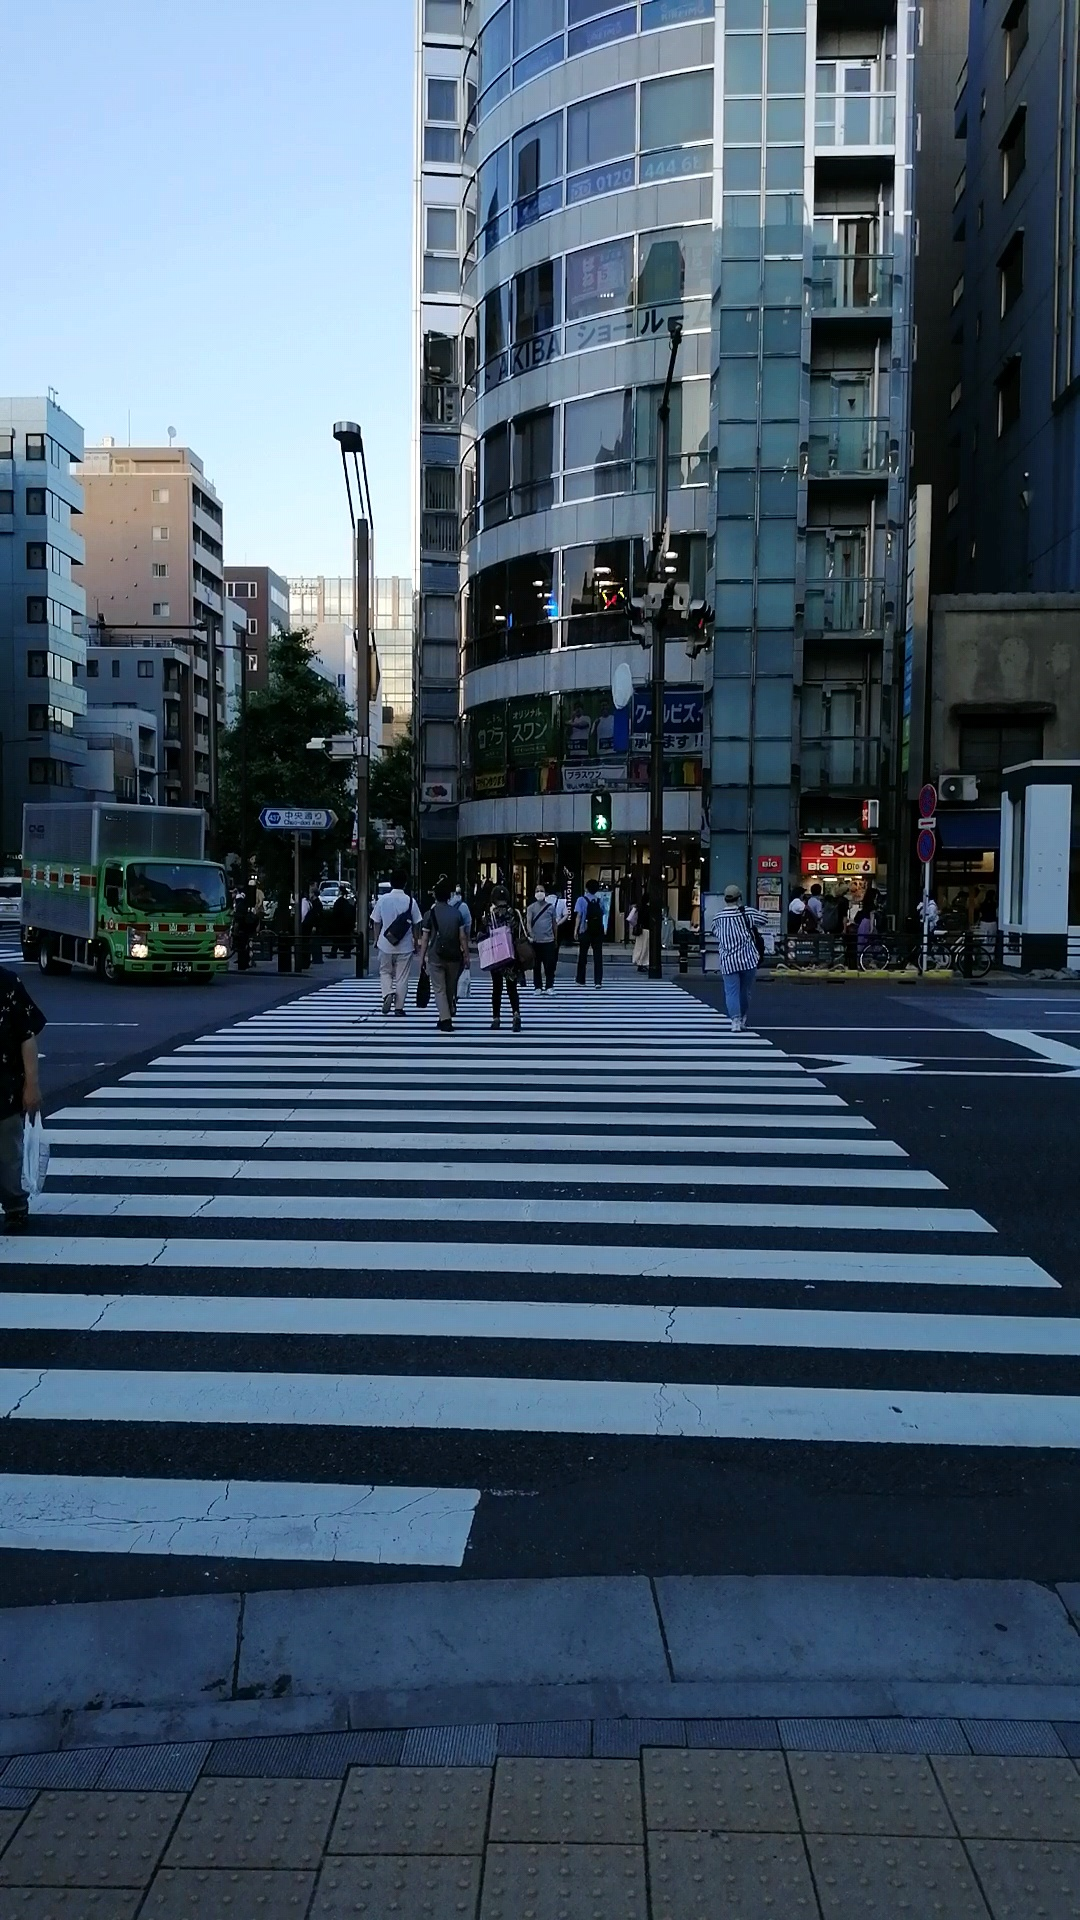green: (589, 789, 612, 837)
